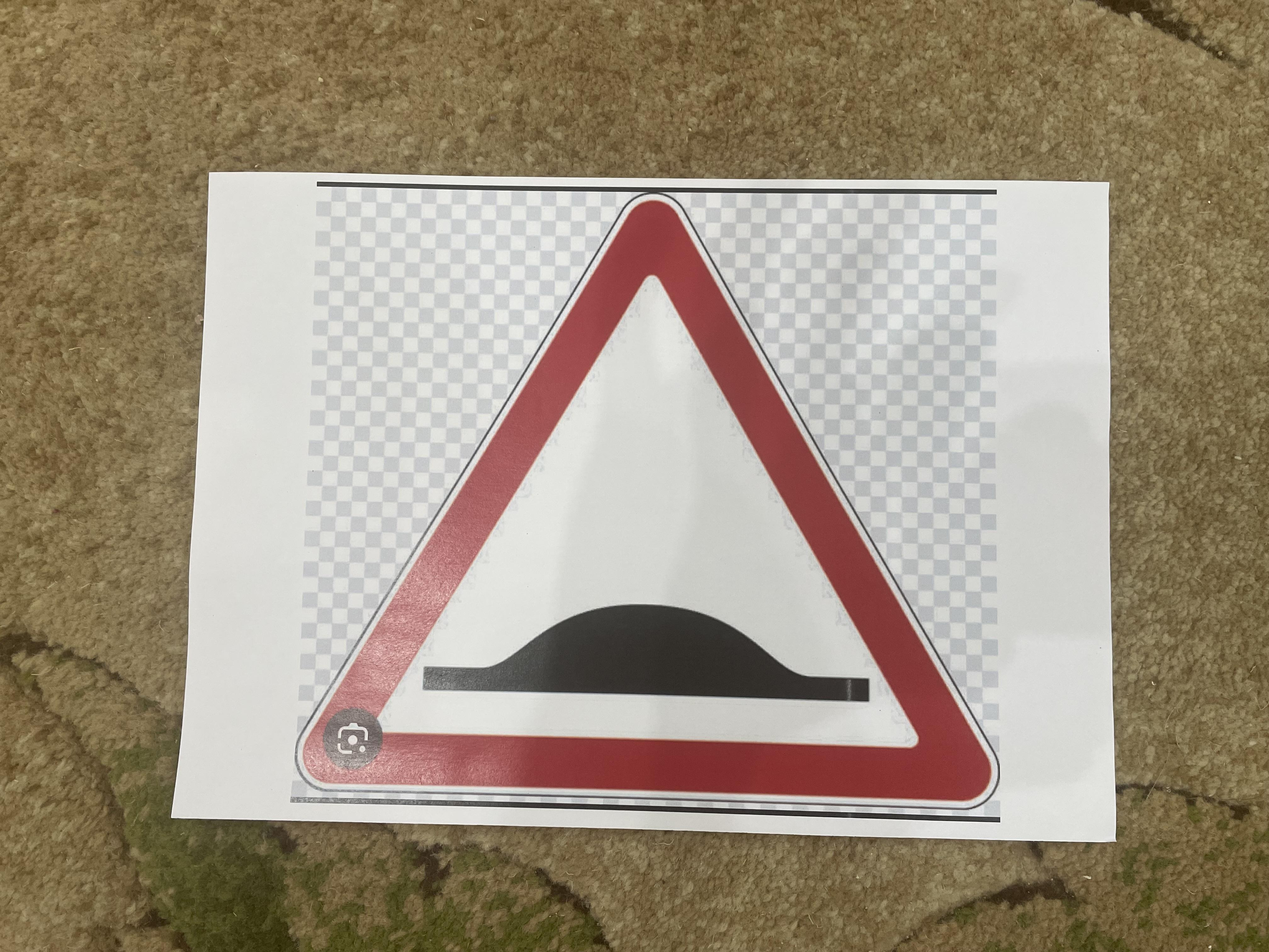Hump: (287, 189, 1004, 805)
